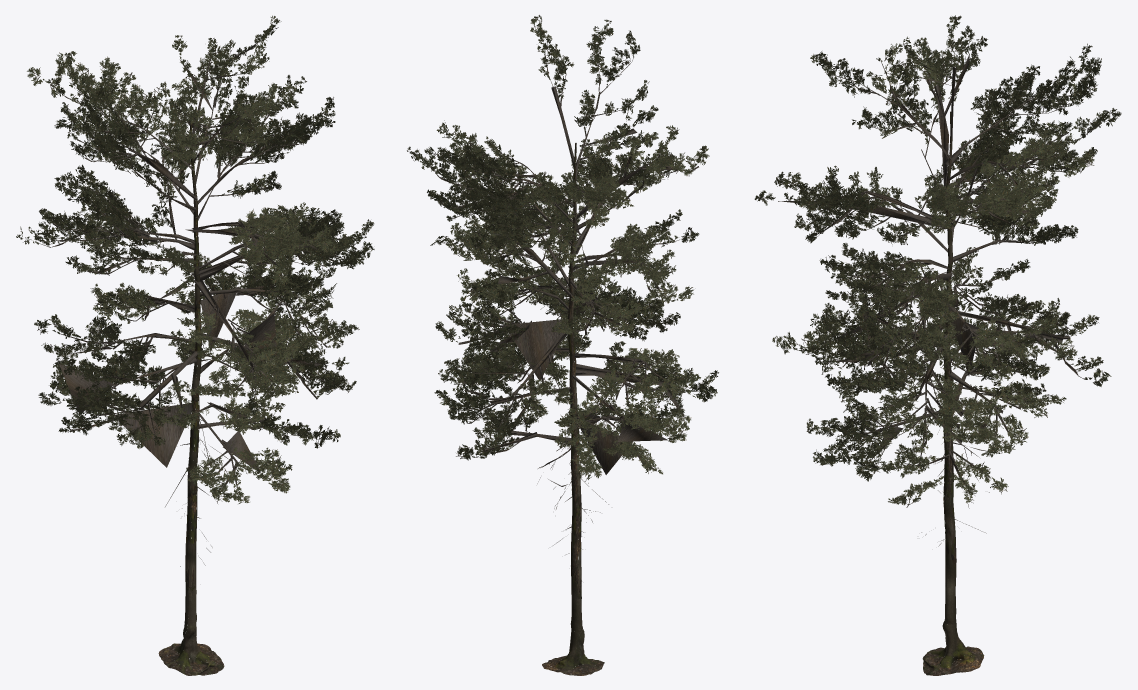
Rendered from pine-tree-01-b.glb.
3 views of the same model, side by side, from view 1: azimuth 30°, elevation 25°; view 2: azimuth 150°, elevation 25°; view 3: azimuth 270°, elevation 25° (orthographic). The views are drawn at different scales.
Visible parts, largest first — view 1: pine_tree_01_b; view 2: pine_tree_01_b; view 3: pine_tree_01_b.
Part boxes in pixels (left/top/right/bottom): pine_tree_01_b: left=16, top=15, right=374, bottom=675; pine_tree_01_b: left=407, top=15, right=718, bottom=675; pine_tree_01_b: left=754, top=15, right=1121, bottom=675.
Bounding box in the file's own units: 7.3 × 14.88 × 7.65.
3 materials, 3 textured.
